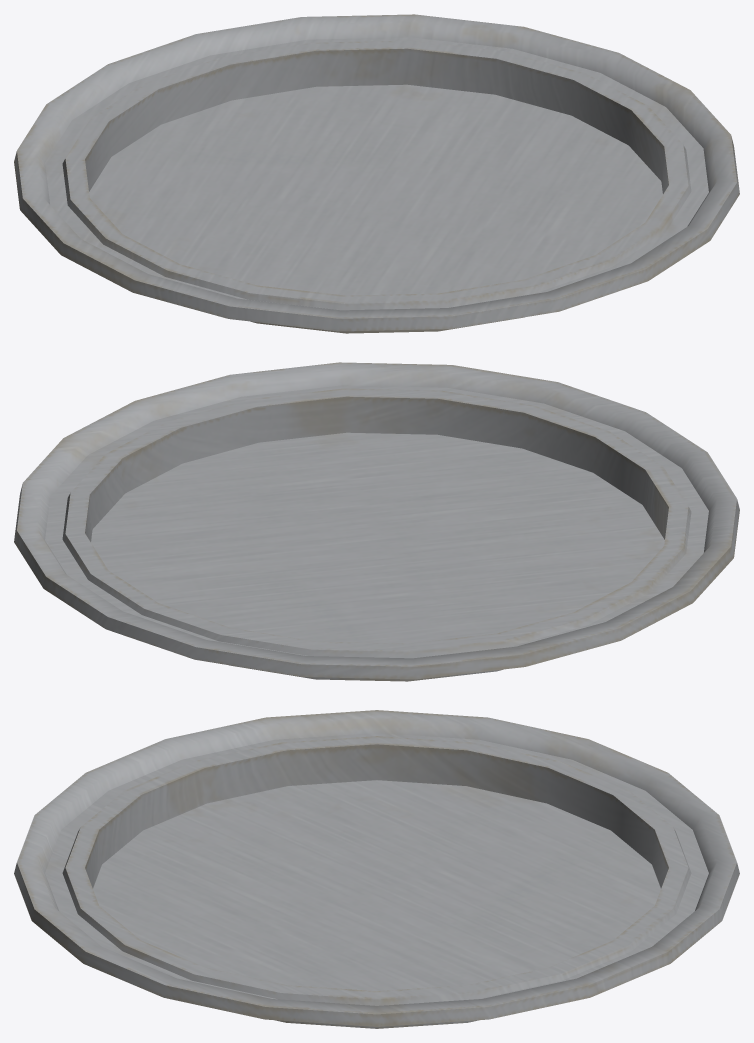
File: Liquid09_2.FBX
3 views of the same model, one above another, from view 1: azimuth 30°, elevation 25°; view 2: azimuth 150°, elevation 25°; view 3: azimuth 270°, elevation 25° (orthographic).
Parts seen in each view (by area): view 1: Liquid92; view 2: Liquid92; view 3: Liquid92.
Part boxes in pixels (<box>): Liquid92: <box>14,14,739,333</box>; Liquid92: <box>14,362,739,681</box>; Liquid92: <box>14,710,739,1028</box>.
Bounding box in the file's own units: 20.85 × 1.35 × 20.85.
